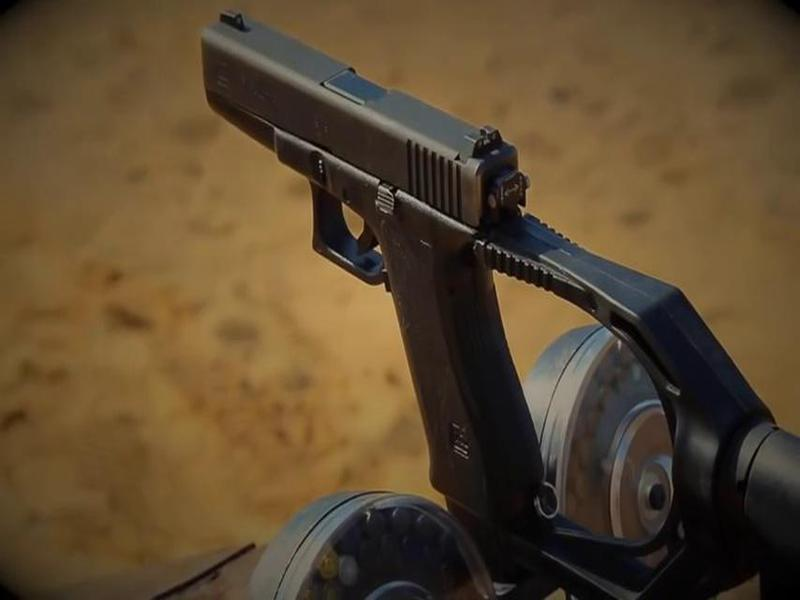Pistola: (196, 14, 547, 513)
